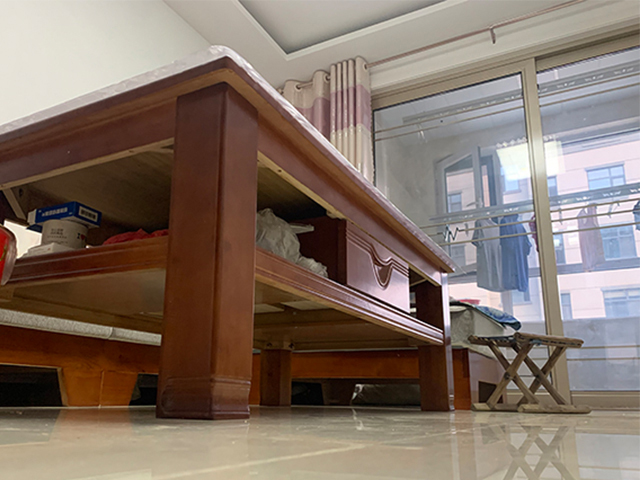stool: (467, 331, 593, 415)
table: (1, 52, 458, 419)
